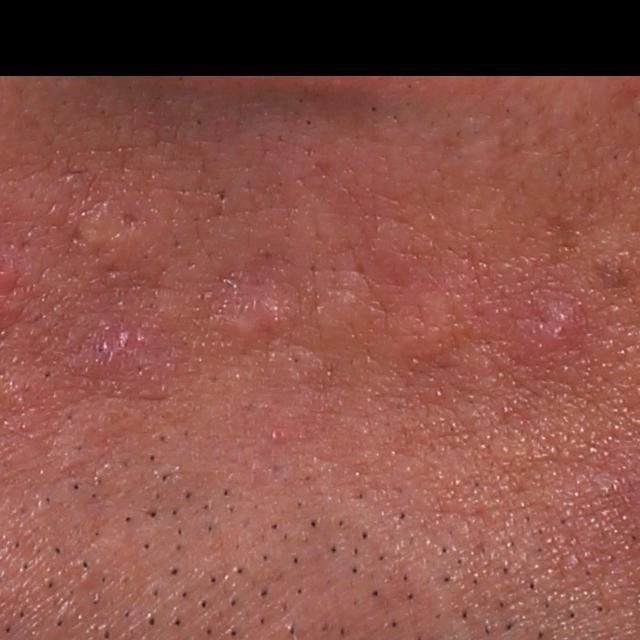hypertrophic_scar: (75, 209, 168, 272)
papule: (231, 282, 296, 344), (530, 293, 592, 348), (91, 320, 140, 382)
